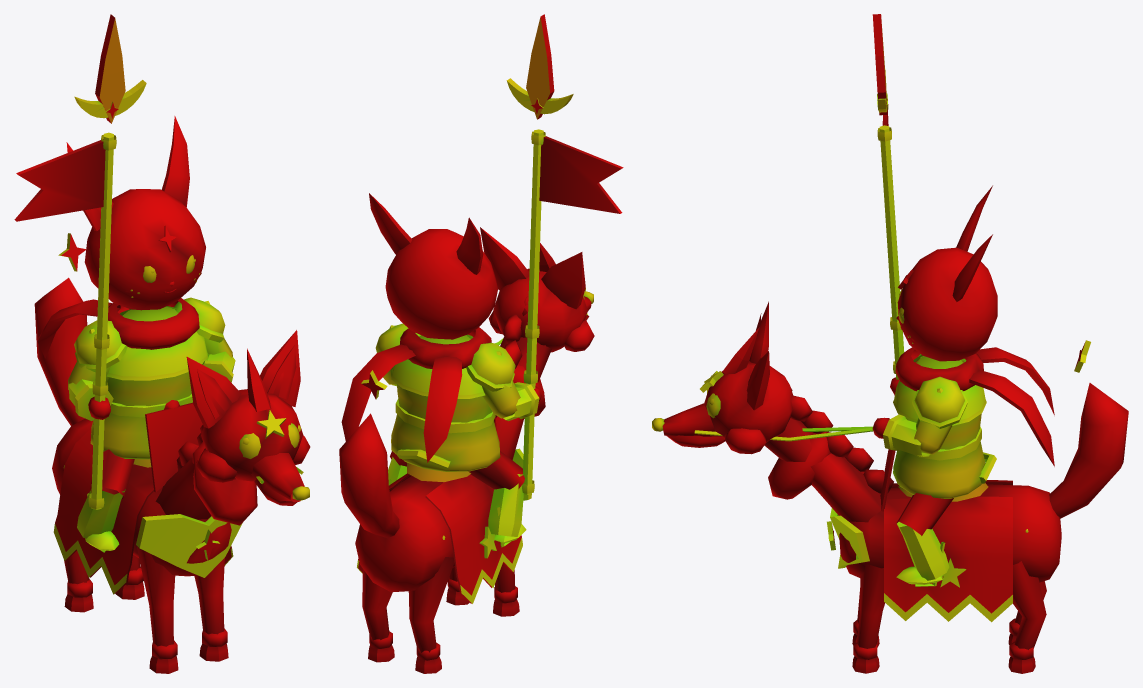
Rendered from StarRider.glb.
3 renders of one model, left to right at view 1: azimuth 30°, elevation 25°; view 2: azimuth 150°, elevation 25°; view 3: azimuth 270°, elevation 25°, orthographic. The views are drawn at different scales.
Parts seen in each view (by area): view 1: StarRider; view 2: StarRider; view 3: StarRider.
Boxes of the visible parts, left/top/right/bottom form: StarRider: left=14, top=14, right=310, bottom=673; StarRider: left=339, top=14, right=623, bottom=673; StarRider: left=652, top=14, right=1128, bottom=673.
Size of the model in its own units: 0.7283 by 1.93 by 1.37.
